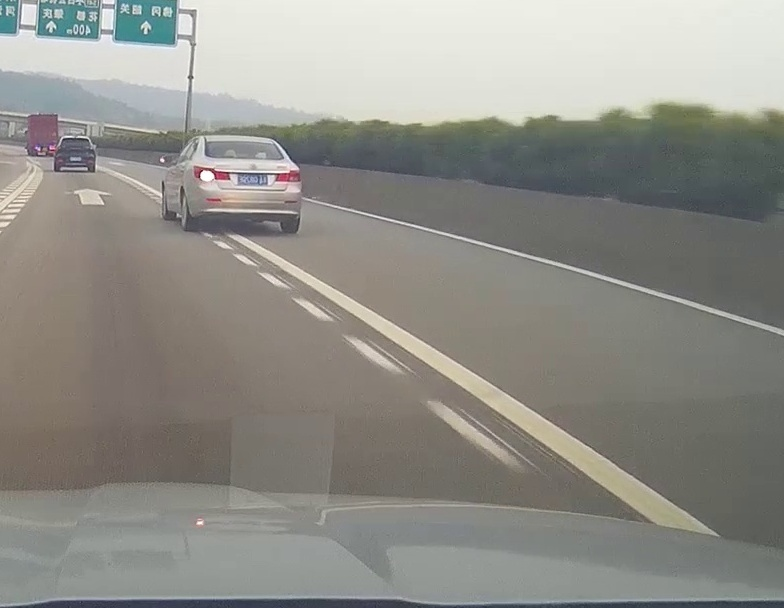L_light: (193, 166, 230, 181)
R_light: (275, 169, 301, 182)
T_light: (237, 140, 249, 143)
day-left: (189, 135, 302, 233)
